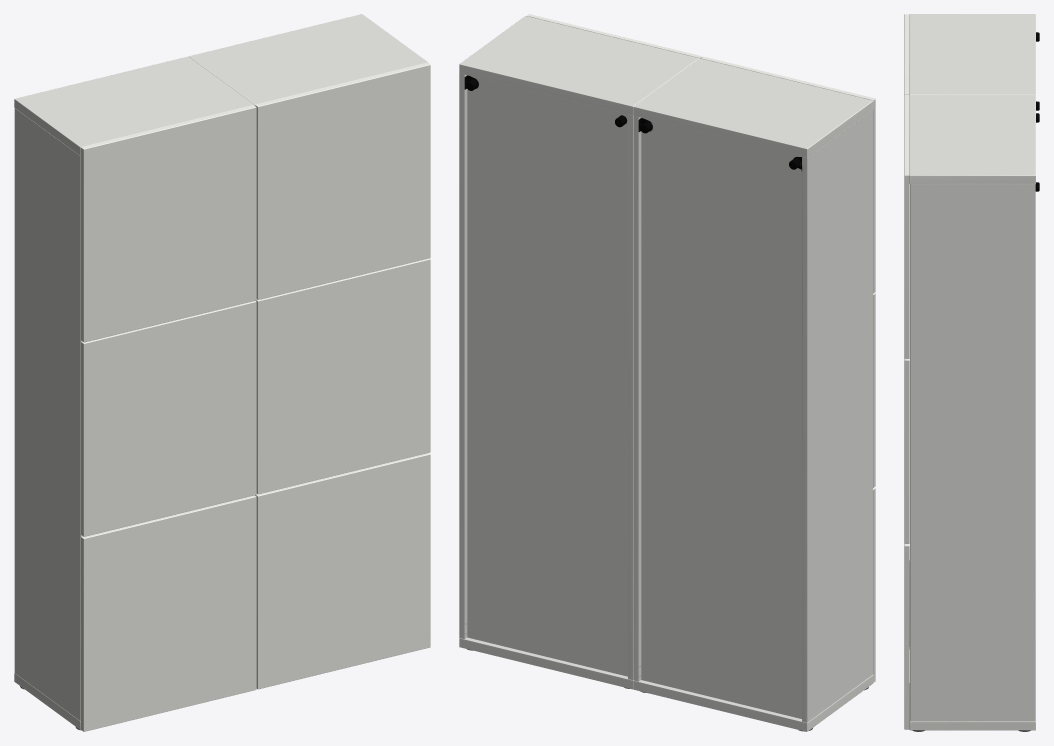
The picture shows the model from 3 angles, left to right: view 1: azimuth 30°, elevation 25°; view 2: azimuth 150°, elevation 25°; view 3: azimuth 270°, elevation 25°; orthographic projection. The views are drawn at different scales.
Visible parts, largest first — view 1: Mesh_0; view 2: Mesh_0; view 3: Mesh_0.
Part boxes in pixels (box(x1,y1,x2,y2)): Mesh_0: box(14, 14, 430, 731); Mesh_0: box(459, 14, 875, 731); Mesh_0: box(904, 14, 1039, 731).
Size of the model in its own units: 1.2 by 1.93 by 0.4237.
1 material, 1 textured.
